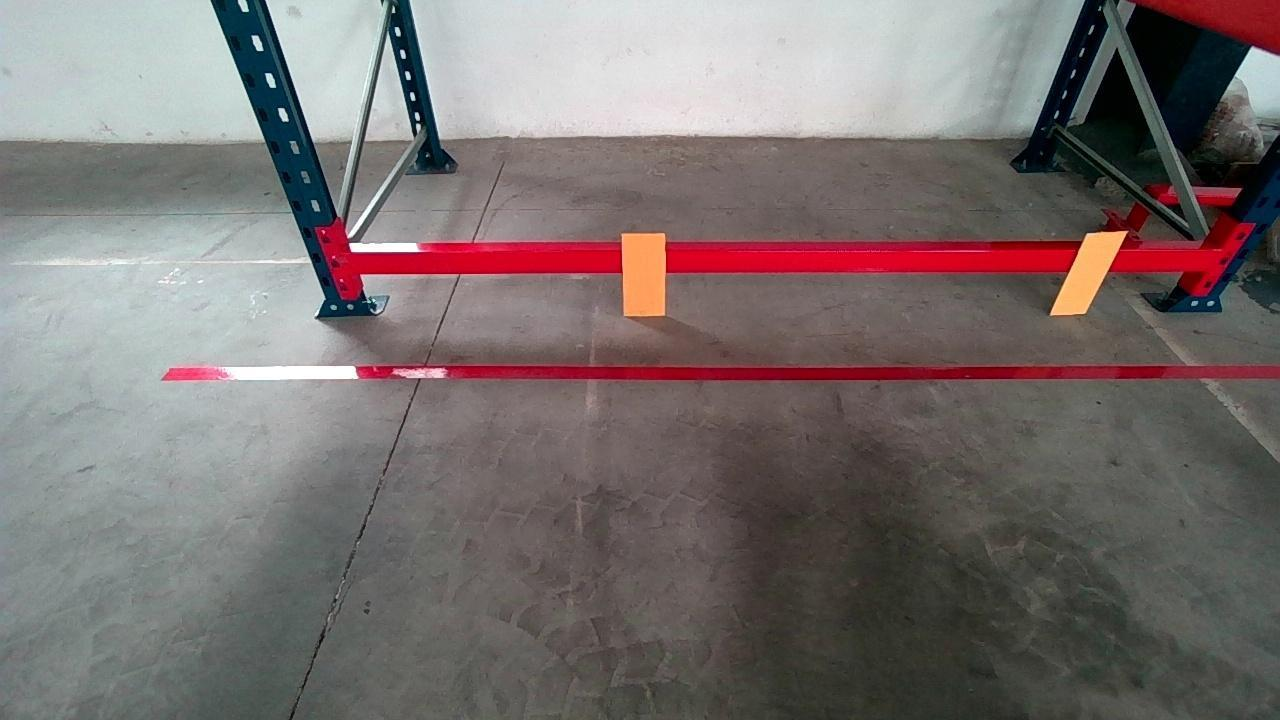h_rack: (350, 239, 1208, 275)
orange_strip: (1051, 231, 1129, 312), (622, 231, 666, 315)
red_line: (158, 360, 1278, 384)
